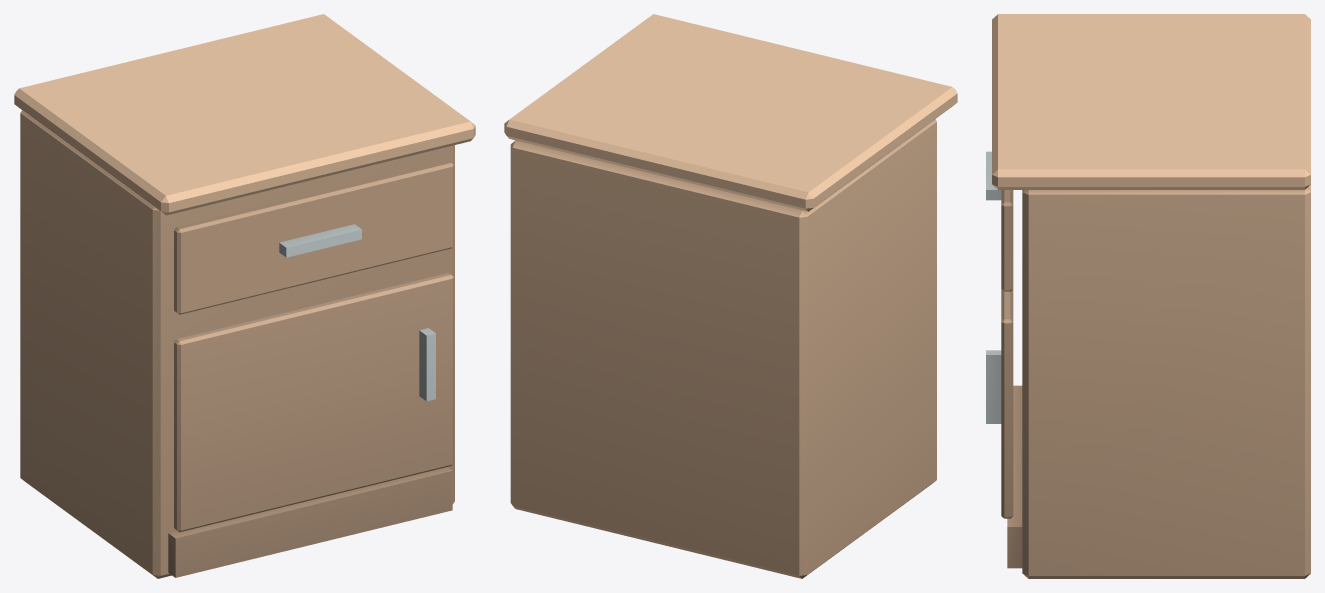
File: bedside.glb
3 renders of one model, left to right at view 1: azimuth 30°, elevation 25°; view 2: azimuth 150°, elevation 25°; view 3: azimuth 270°, elevation 25°, orthographic. The views are drawn at different scales.
Visible parts, largest first — view 1: body, door, top, drawer, plinth, pulls; view 2: body, top; view 3: body, top, door, plinth, pulls, drawer.
Boxes of the visible parts, x1,y1,x2,y2 form: body: [20, 110, 454, 578]; door: [174, 273, 453, 532]; top: [14, 14, 475, 215]; drawer: [174, 161, 453, 314]; plinth: [168, 467, 452, 577]; pulls: [279, 224, 435, 401]; body: [510, 119, 936, 578]; top: [504, 14, 957, 211]; body: [1022, 185, 1310, 578]; top: [992, 14, 1310, 189]; door: [1001, 289, 1013, 518]; plinth: [1007, 385, 1022, 568]; pulls: [986, 151, 1001, 423]; drawer: [1001, 190, 1013, 291].
Bounding box in the file's own units: 0.5 × 0.6 × 0.428.
